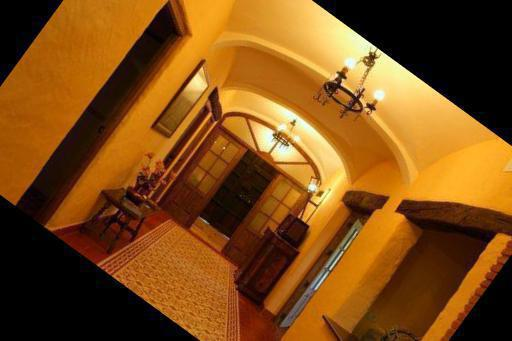Puerta: (159, 128, 306, 271), (270, 211, 367, 337)
